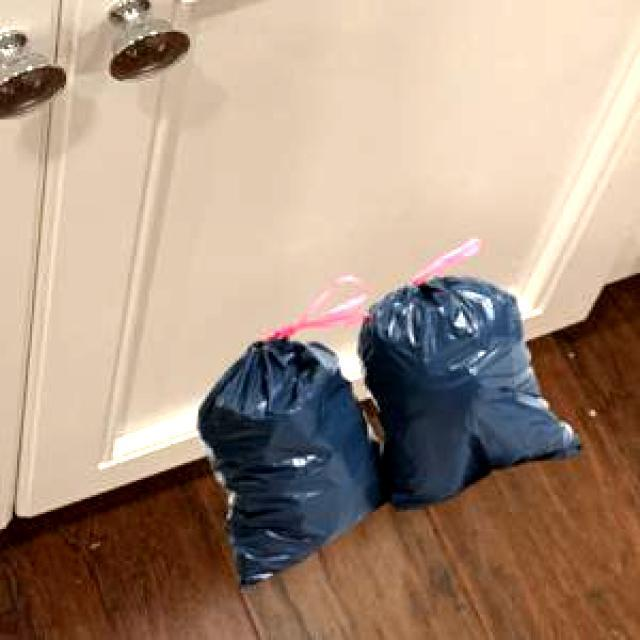Bolsa-de-nilon: (200, 274, 581, 584), (197, 314, 397, 589)
